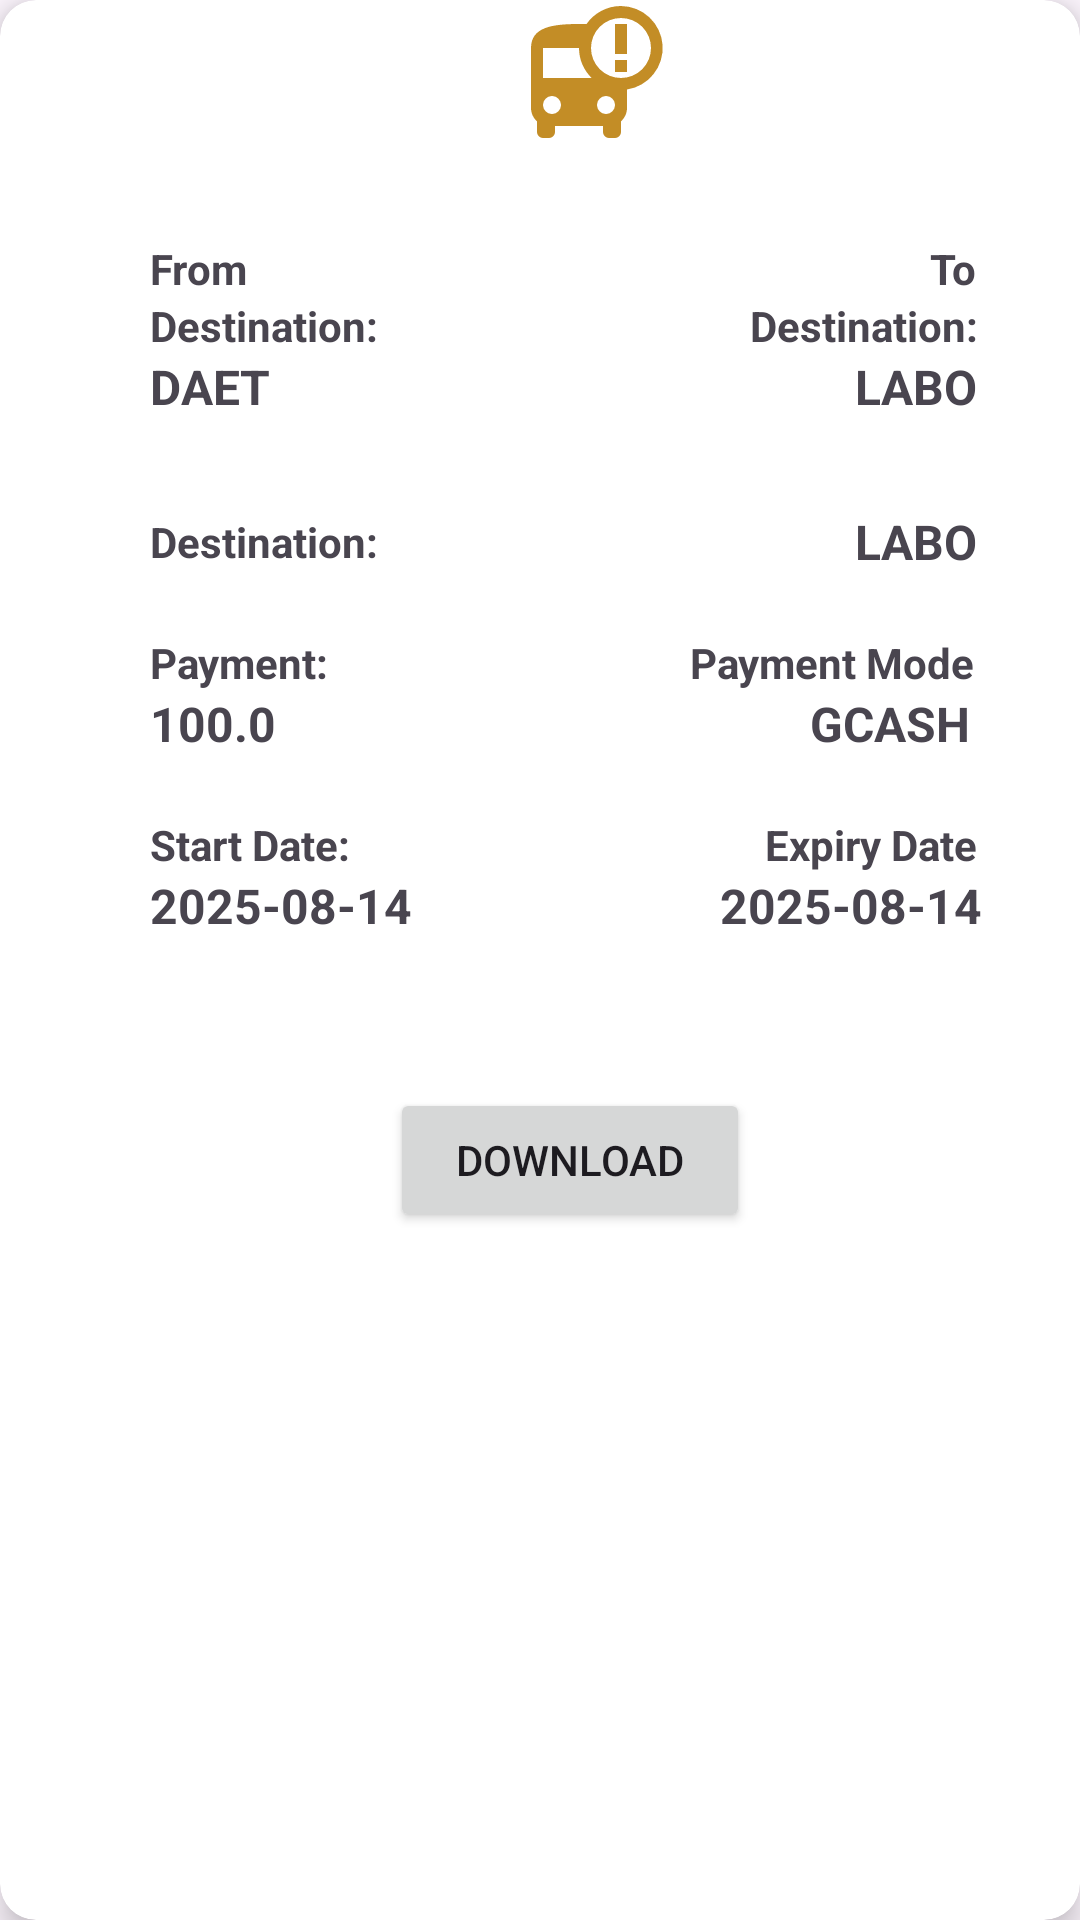

Icons on this 1080×1920 Android screen, each with the point to tap as (x,y):
bus alert: (597,72)
